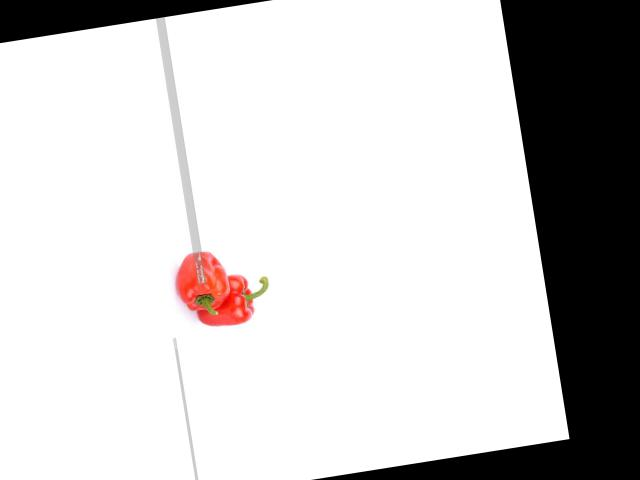bell_pepper: (171, 239, 237, 318)
